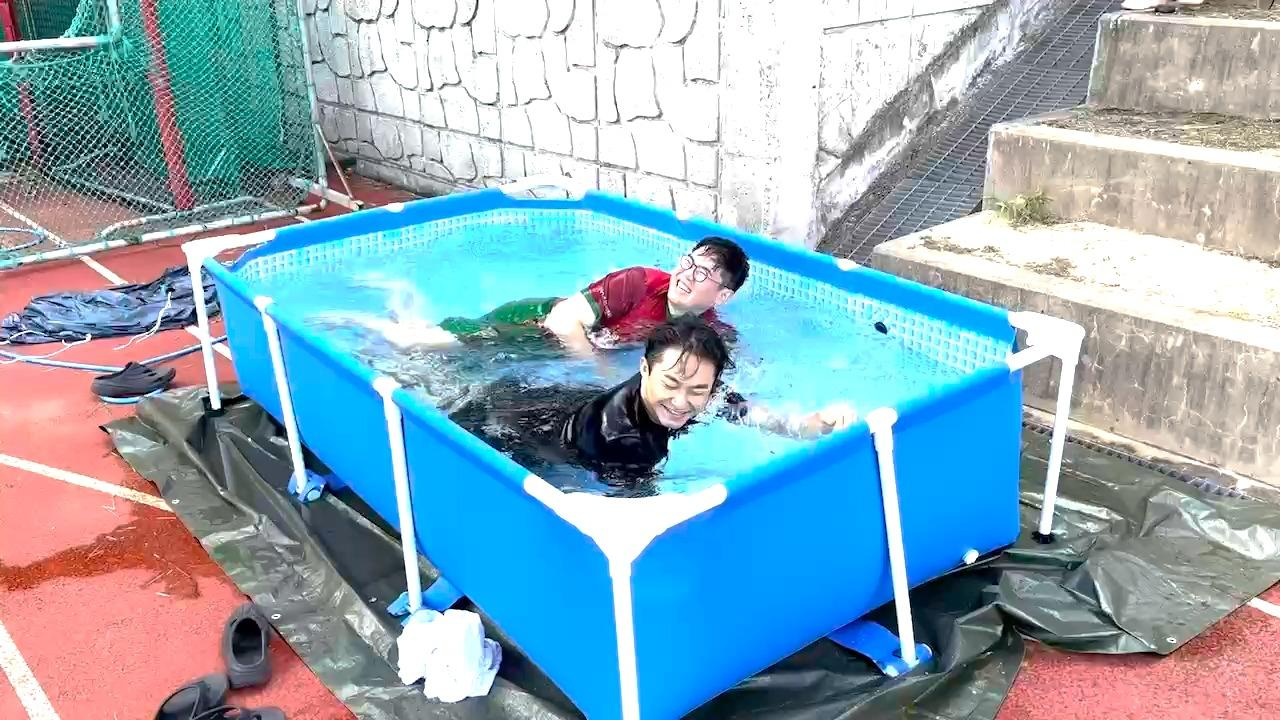Swimming: (395, 328, 849, 509), (356, 232, 766, 364)
